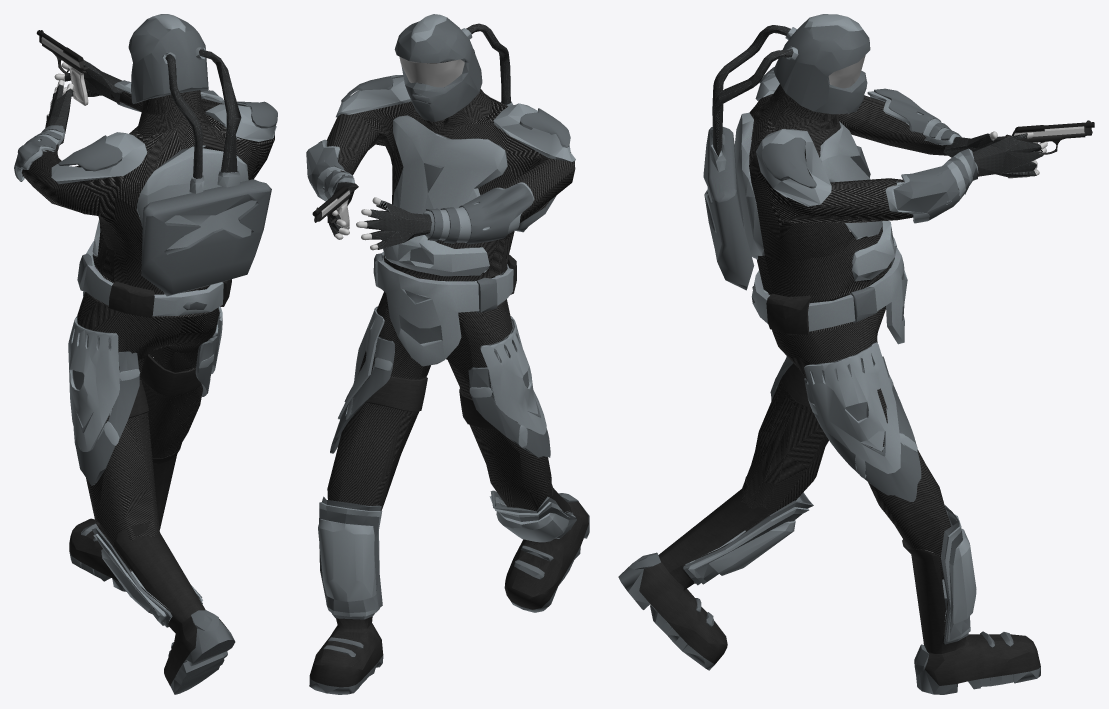
The picture shows the model from 3 angles, left to right: view 1: azimuth 30°, elevation 25°; view 2: azimuth 150°, elevation 25°; view 3: azimuth 270°, elevation 25°; orthographic projection. The views are drawn at different scales.
Parts seen in each view (by area): view 1: personajeskefix:personaje:extrudedSurface2 polySurface102, personajeskefix:personaje:PANTALON polySurface102, personajeskefix:personaje:CAMISETABUENA polySurface102, personajeskefix:personaje:bota1 polySurface102, personajeskefix:personaje:pPipe4 polySurface102, personajeskefix:personaje:cosoarmdaurapierna1 polySurface102, personajeskefix:personaje:cinturon polySurface102, personajeskefix:personaje:pCube4 polySurface102, personajeskefix:personaje:polySurface6 polySurface102, pistola:Cylinder001 polySurface102, personajeskefix:personaje:HOMBRO2 polySurface102, personajeskefix:personaje:armadbota1 polySurface102 (+5 smaller); view 2: personajeskefix:personaje:pPipe4 polySurface102, personajeskefix:personaje:PANTALON polySurface102, personajeskefix:personaje:CAMISETABUENA polySurface102, personajeskefix:personaje:bota1 polySurface102, personajeskefix:personaje:cinturon polySurface102, personajeskefix:personaje:pCube4 polySurface102, personajeskefix:personaje:armadbota1 polySurface102, personajeskefix:personaje:extrudedSurface2 polySurface102, personajeskefix:personaje:cosoarmdaurapierna1 polySurface102, personajeskefix:personaje:polySurface2 polySurface102, personajeskefix:personaje:polySurface6 polySurface102, personajeskefix:personaje:cosoarmadurapierna2 polySurface102 (+7 smaller); view 3: personajeskefix:personaje:CAMISETABUENA polySurface102, personajeskefix:personaje:bota1 polySurface102, personajeskefix:personaje:pPipe4 polySurface102, personajeskefix:personaje:PANTALON polySurface102, personajeskefix:personaje:extrudedSurface2 polySurface102, personajeskefix:personaje:pCube4 polySurface102, personajeskefix:personaje:cinturon polySurface102, personajeskefix:personaje:armadbota1 polySurface102, personajeskefix:personaje:cosoarmadurapierna2 polySurface102, personajeskefix:personaje:hombro1 polySurface102, personajeskefix:personaje:polySurface2 polySurface102, pistola:Cylinder001 polySurface102 (+3 smaller).
Part boxes in pixels (left/top/right/bottom): personajeskefix:personaje:extrudedSurface2 polySurface102: left=128, top=14, right=271, bottom=296; personajeskefix:personaje:PANTALON polySurface102: left=77, top=266, right=219, bottom=572; personajeskefix:personaje:CAMISETABUENA polySurface102: left=21, top=90, right=274, bottom=317; personajeskefix:personaje:bota1 polySurface102: left=69, top=444, right=235, bottom=694; personajeskefix:personaje:pPipe4 polySurface102: left=42, top=60, right=276, bottom=255; personajeskefix:personaje:cosoarmdaurapierna1 polySurface102: left=68, top=316, right=140, bottom=451; personajeskefix:personaje:cinturon polySurface102: left=77, top=241, right=231, bottom=317; personajeskefix:personaje:pCube4 polySurface102: left=72, top=290, right=222, bottom=627; personajeskefix:personaje:polySurface6 polySurface102: left=128, top=354, right=201, bottom=418; pistola:Cylinder001 polySurface102: left=36, top=30, right=88, bottom=105; personajeskefix:personaje:HOMBRO2 polySurface102: left=58, top=135, right=122, bottom=171; personajeskefix:personaje:armadbota1 polySurface102: left=93, top=534, right=202, bottom=625; personajeskefix:personaje:pPipe4 polySurface102: left=306, top=77, right=575, bottom=276; personajeskefix:personaje:PANTALON polySurface102: left=327, top=270, right=551, bottom=511; personajeskefix:personaje:CAMISETABUENA polySurface102: left=323, top=61, right=575, bottom=306; personajeskefix:personaje:bota1 polySurface102: left=309, top=485, right=589, bottom=694; personajeskefix:personaje:cinturon polySurface102: left=373, top=247, right=516, bottom=366; personajeskefix:personaje:pCube4 polySurface102: left=319, top=306, right=576, bottom=619; personajeskefix:personaje:armadbota1 polySurface102: left=318, top=496, right=575, bottom=616; personajeskefix:personaje:extrudedSurface2 polySurface102: left=394, top=14, right=556, bottom=232; personajeskefix:personaje:cosoarmdaurapierna1 polySurface102: left=469, top=316, right=546, bottom=448; personajeskefix:personaje:polySurface2 polySurface102: left=426, top=183, right=533, bottom=244; personajeskefix:personaje:polySurface6 polySurface102: left=366, top=376, right=497, bottom=430; personajeskefix:personaje:cosoarmadurapierna2 polySurface102: left=330, top=336, right=394, bottom=453; personajeskefix:personaje:CAMISETABUENA polySurface102: left=749, top=84, right=958, bottom=332; personajeskefix:personaje:bota1 polySurface102: left=618, top=476, right=1040, bottom=694; personajeskefix:personaje:pPipe4 polySurface102: left=734, top=73, right=1043, bottom=281; personajeskefix:personaje:PANTALON polySurface102: left=741, top=264, right=950, bottom=579; personajeskefix:personaje:extrudedSurface2 polySurface102: left=703, top=14, right=870, bottom=290; personajeskefix:personaje:pCube4 polySurface102: left=683, top=336, right=970, bottom=644; personajeskefix:personaje:cinturon polySurface102: left=751, top=238, right=907, bottom=344; personajeskefix:personaje:armadbota1 polySurface102: left=687, top=497, right=976, bottom=642; personajeskefix:personaje:cosoarmadurapierna2 polySurface102: left=804, top=356, right=921, bottom=501; personajeskefix:personaje:hombro1 polySurface102: left=761, top=137, right=816, bottom=188; personajeskefix:personaje:polySurface2 polySurface102: left=874, top=88, right=961, bottom=139; pistola:Cylinder001 polySurface102: left=1005, top=120, right=1094, bottom=178.
Size of the model in its own units: 3.67 by 9.55 by 6.14.
